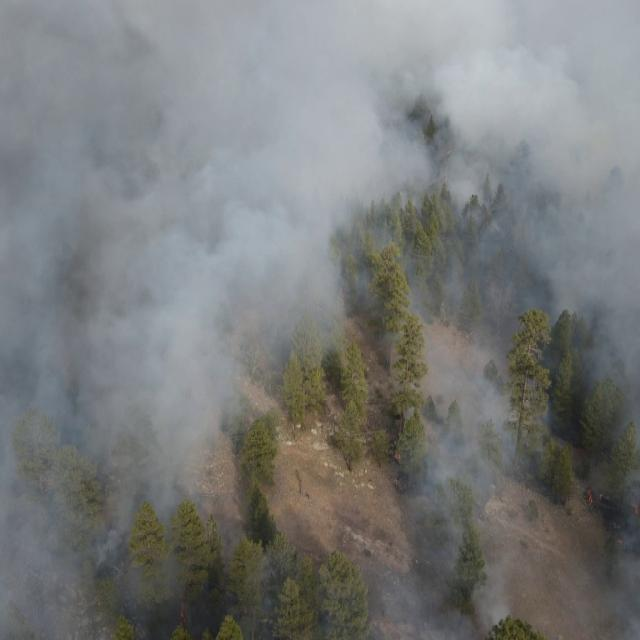fire: (179, 597, 186, 628), (586, 488, 592, 504), (634, 504, 640, 516), (394, 450, 400, 460), (600, 492, 604, 502), (618, 540, 624, 546)
smoke: (0, 0, 346, 438), (343, 0, 640, 314), (202, 500, 524, 640), (0, 436, 196, 640), (394, 313, 552, 495), (571, 310, 640, 639)
